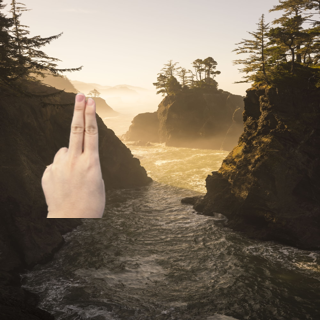DHAVE: (34, 89, 110, 216)
